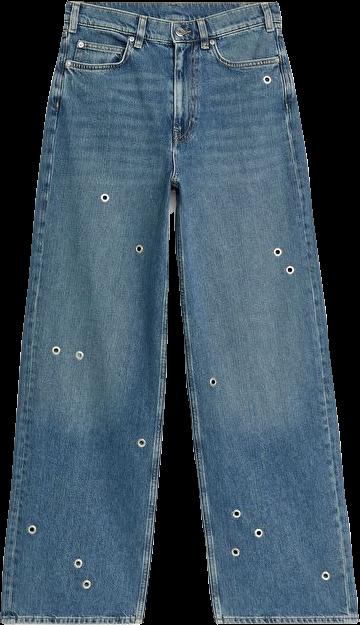Hemline: (212, 614, 359, 624), (0, 615, 144, 624)
Pantleg: (173, 0, 358, 624), (0, 0, 172, 624)
Waistline: (60, 0, 277, 24)
